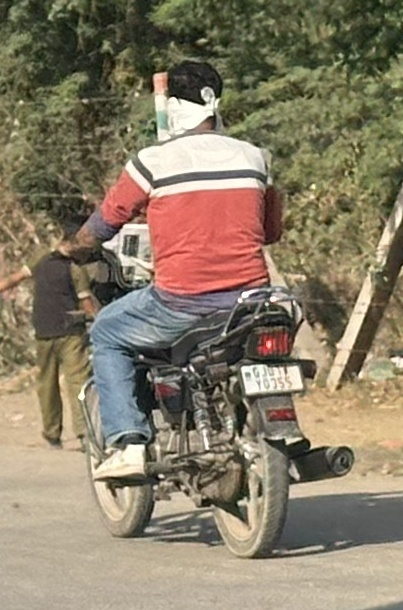BikeWithRider: (45, 53, 363, 567)
NoHelmet: (156, 56, 232, 140)
